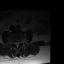CCS_normal: (16, 40, 18, 49)
LFS_normal: (19, 39, 21, 44)
LLS_normal: (18, 40, 19, 47)
RFS_normal: (12, 39, 14, 45)
RLS_normal: (14, 40, 16, 46)
